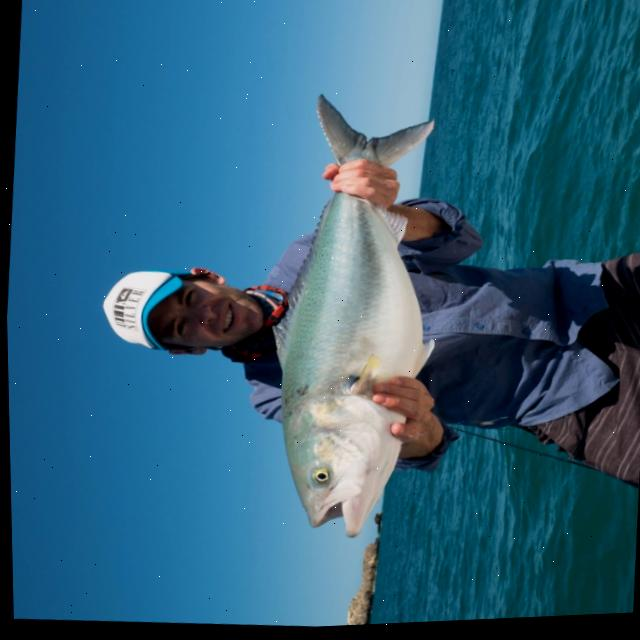Australian Salmon: (234, 81, 461, 551)
